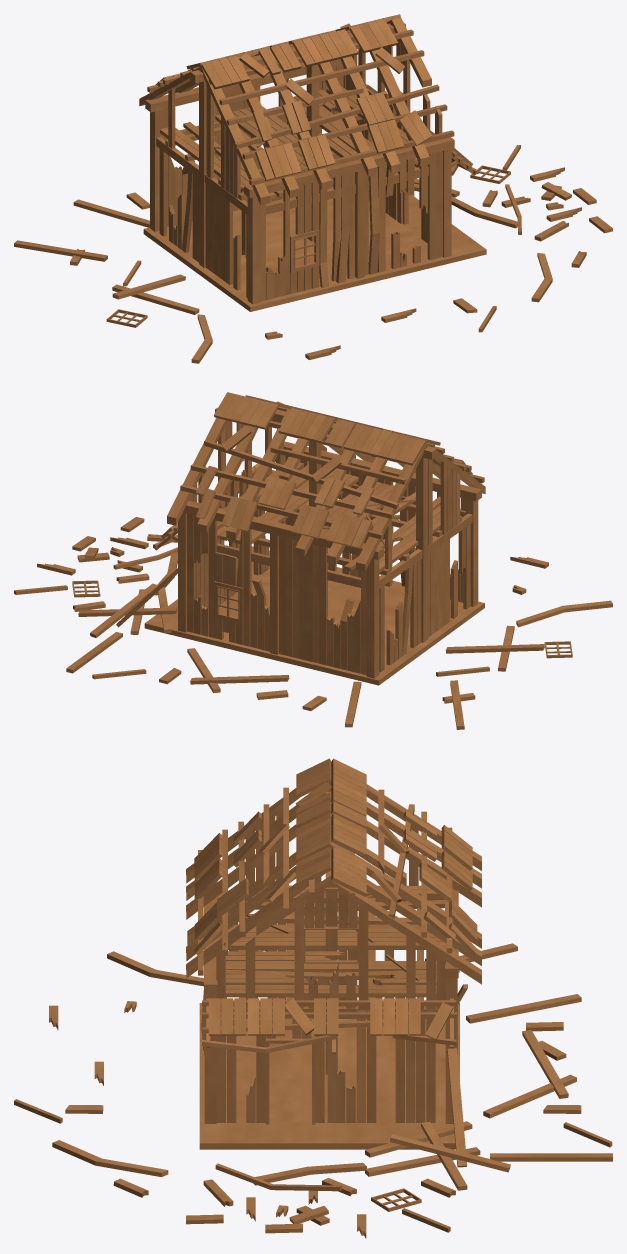
The model's file is house1.fbx.
3 renders of one model, top to bottom at view 1: azimuth 30°, elevation 25°; view 2: azimuth 150°, elevation 25°; view 3: azimuth 270°, elevation 25°, orthographic. The views are drawn at different scales.
Visible parts, largest first — view 1: polySurface90; view 2: polySurface90; view 3: polySurface90.
Part boxes in pixels (x1,y1,x2,y2): polySurface90: [14, 14, 612, 363]; polySurface90: [14, 392, 612, 729]; polySurface90: [14, 758, 612, 1238].
Bounding box in the file's own units: 1565 × 632 × 1334.
Materials: 1 (1 with a texture image).
